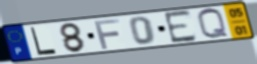0: (127, 15, 158, 46)
8: (59, 22, 88, 54)
E: (162, 9, 199, 46)
F: (92, 18, 122, 50)
L: (29, 26, 59, 57)
Q: (196, 8, 231, 41)
